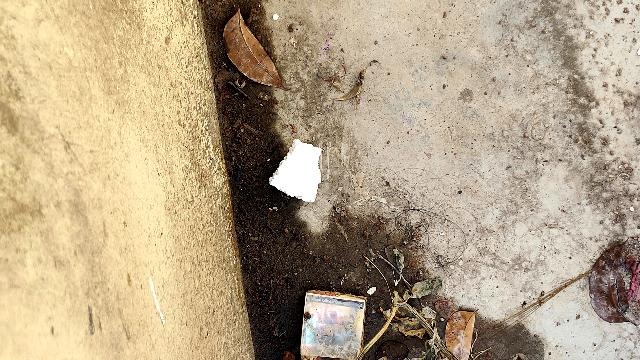cocksheet: (267, 136, 331, 207)
